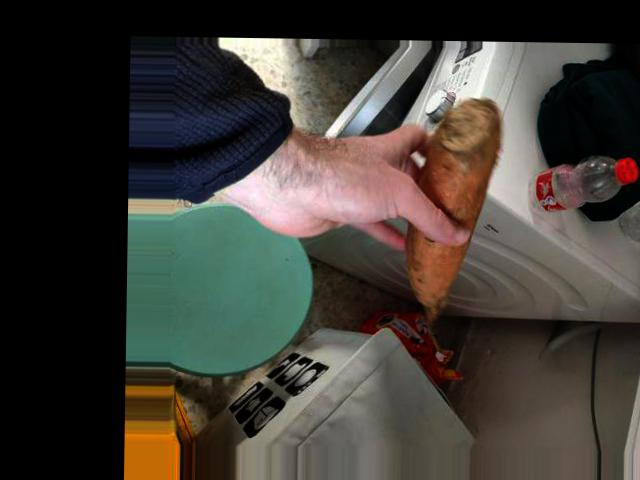sweet_potato: (419, 100, 488, 329)
